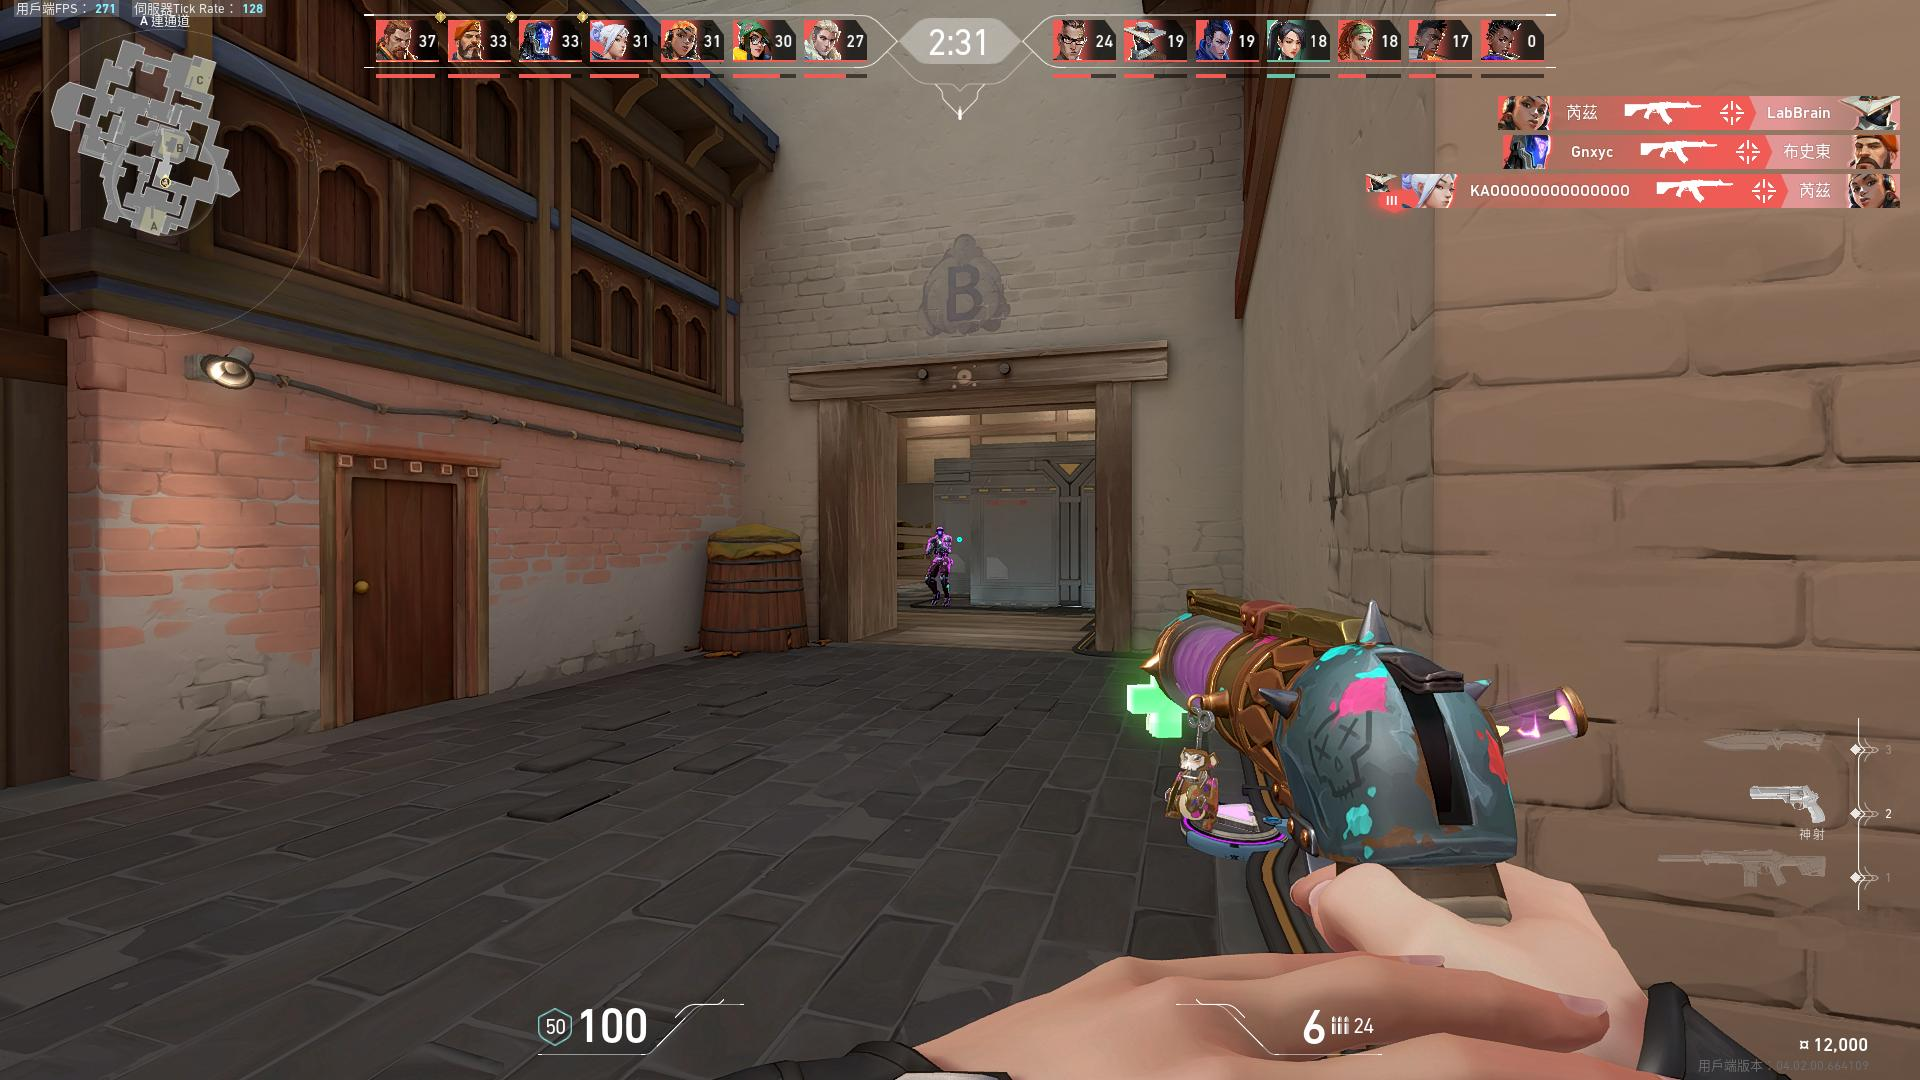enemyBody: (935, 537, 945, 558)
enemyHead: (938, 527, 943, 535)
